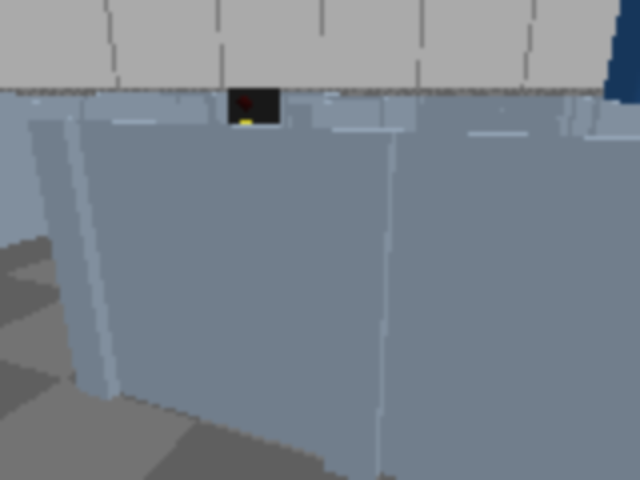person: (591, 0, 638, 177)
